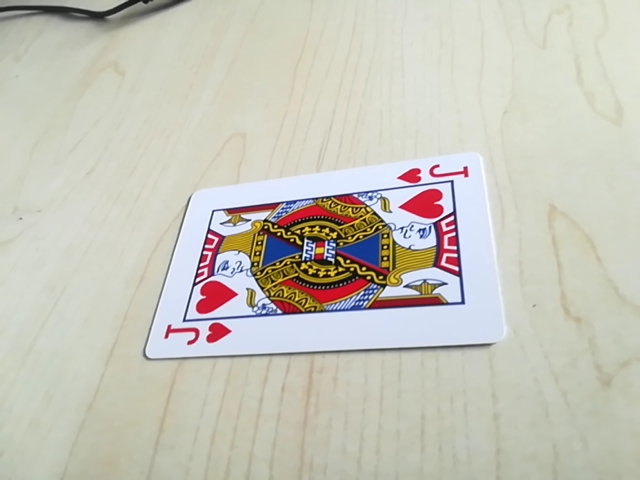hx j: (158, 320, 235, 354), (397, 160, 470, 188)
